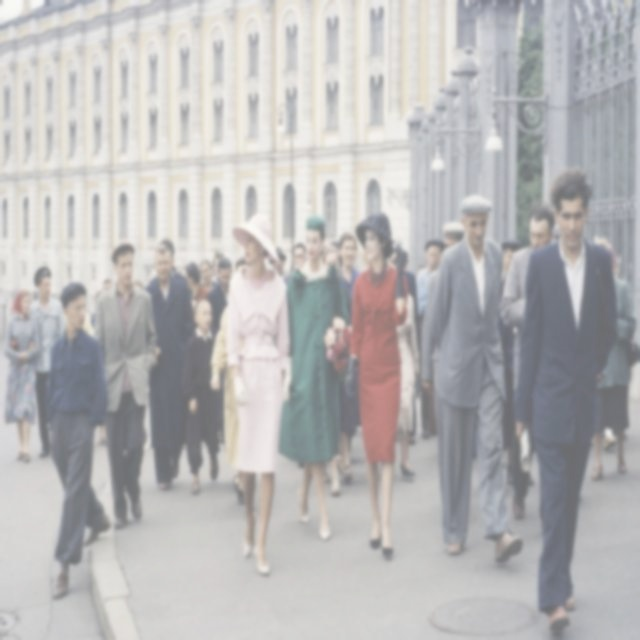pessoa: (510, 166, 618, 632), (432, 193, 524, 564), (276, 214, 352, 542), (226, 211, 290, 577), (344, 213, 410, 562), (43, 281, 111, 599), (91, 242, 159, 529), (498, 204, 557, 532), (142, 244, 196, 492), (590, 234, 640, 484), (422, 220, 468, 489), (422, 220, 465, 504), (320, 246, 354, 500), (181, 298, 223, 494), (384, 254, 420, 479), (26, 266, 68, 458), (3, 288, 40, 462), (56, 281, 95, 446), (497, 238, 522, 488), (337, 232, 362, 481), (417, 240, 442, 440), (210, 256, 233, 452), (499, 238, 520, 446), (402, 250, 422, 446), (578, 422, 640, 482), (415, 238, 445, 342), (90, 290, 109, 447), (206, 257, 232, 338), (360, 238, 410, 272), (183, 260, 210, 314), (156, 239, 188, 281), (282, 242, 308, 290), (282, 242, 307, 286), (183, 262, 209, 304), (502, 454, 538, 484), (269, 246, 289, 280), (198, 260, 218, 290), (211, 250, 225, 284), (319, 238, 343, 256), (233, 258, 252, 272), (130, 276, 146, 289), (612, 257, 622, 277), (102, 278, 113, 293), (416, 264, 427, 278)
